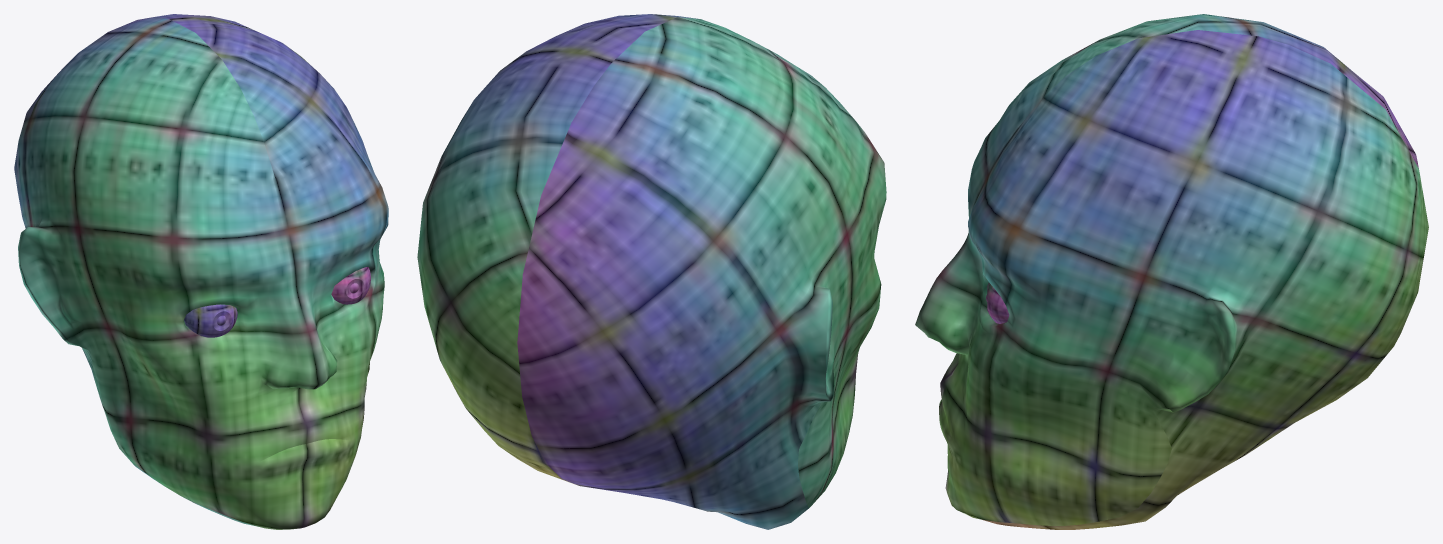
File: HeadyStudyForSubstance.fbx
3 renders of one model, left to right at view 1: azimuth 30°, elevation 25°; view 2: azimuth 150°, elevation 25°; view 3: azimuth 270°, elevation 25°, orthographic. The views are drawn at different scales.
Parts seen in each view (by area): view 1: Head, R_Eye, L_Eye; view 2: Head; view 3: Head, L_Eye.
Part boxes in pixels (bbox=[...]): Head: bbox=[14, 14, 388, 529]; R_Eye: bbox=[184, 304, 237, 337]; L_Eye: bbox=[331, 267, 370, 304]; Head: bbox=[417, 14, 886, 529]; Head: bbox=[915, 14, 1428, 529]; L_Eye: bbox=[986, 282, 1009, 323].
Bounding box in the file's own units: 15.22 × 18.77 × 18.38.
